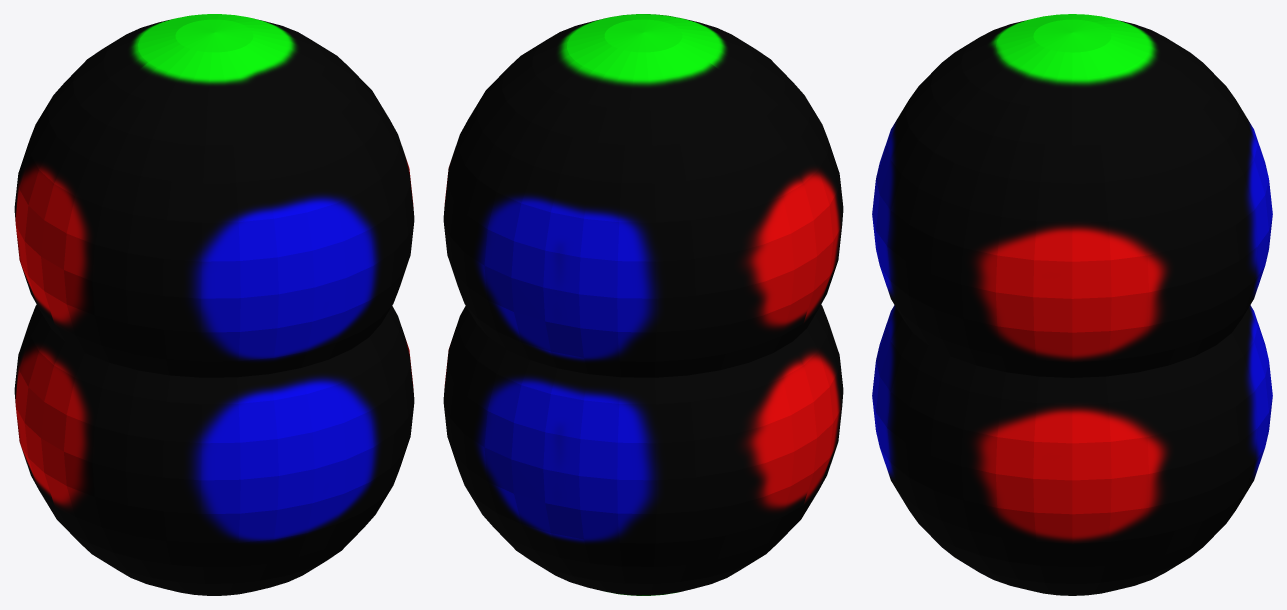
File: double_sphere.gltf
3 renders of one model, left to right at view 1: azimuth 30°, elevation 25°; view 2: azimuth 150°, elevation 25°; view 3: azimuth 270°, elevation 25°, orthographic.
Visible parts, largest first — view 1: Sphere.001, Sphere; view 2: Sphere.001, Sphere; view 3: Sphere.001, Sphere.
Part boxes in pixels (x1=…): Sphere.001: x1=14, y1=14, x2=414, y2=377; Sphere: x1=14, y1=304, x2=414, y2=595; Sphere.001: x1=443, y1=14, x2=843, y2=377; Sphere: x1=443, y1=304, x2=843, y2=595; Sphere.001: x1=872, y1=14, x2=1272, y2=377; Sphere: x1=872, y1=305, x2=1272, y2=595.
Bounding box in the file's own units: 2 × 3 × 2.
2 materials, 2 textured.
